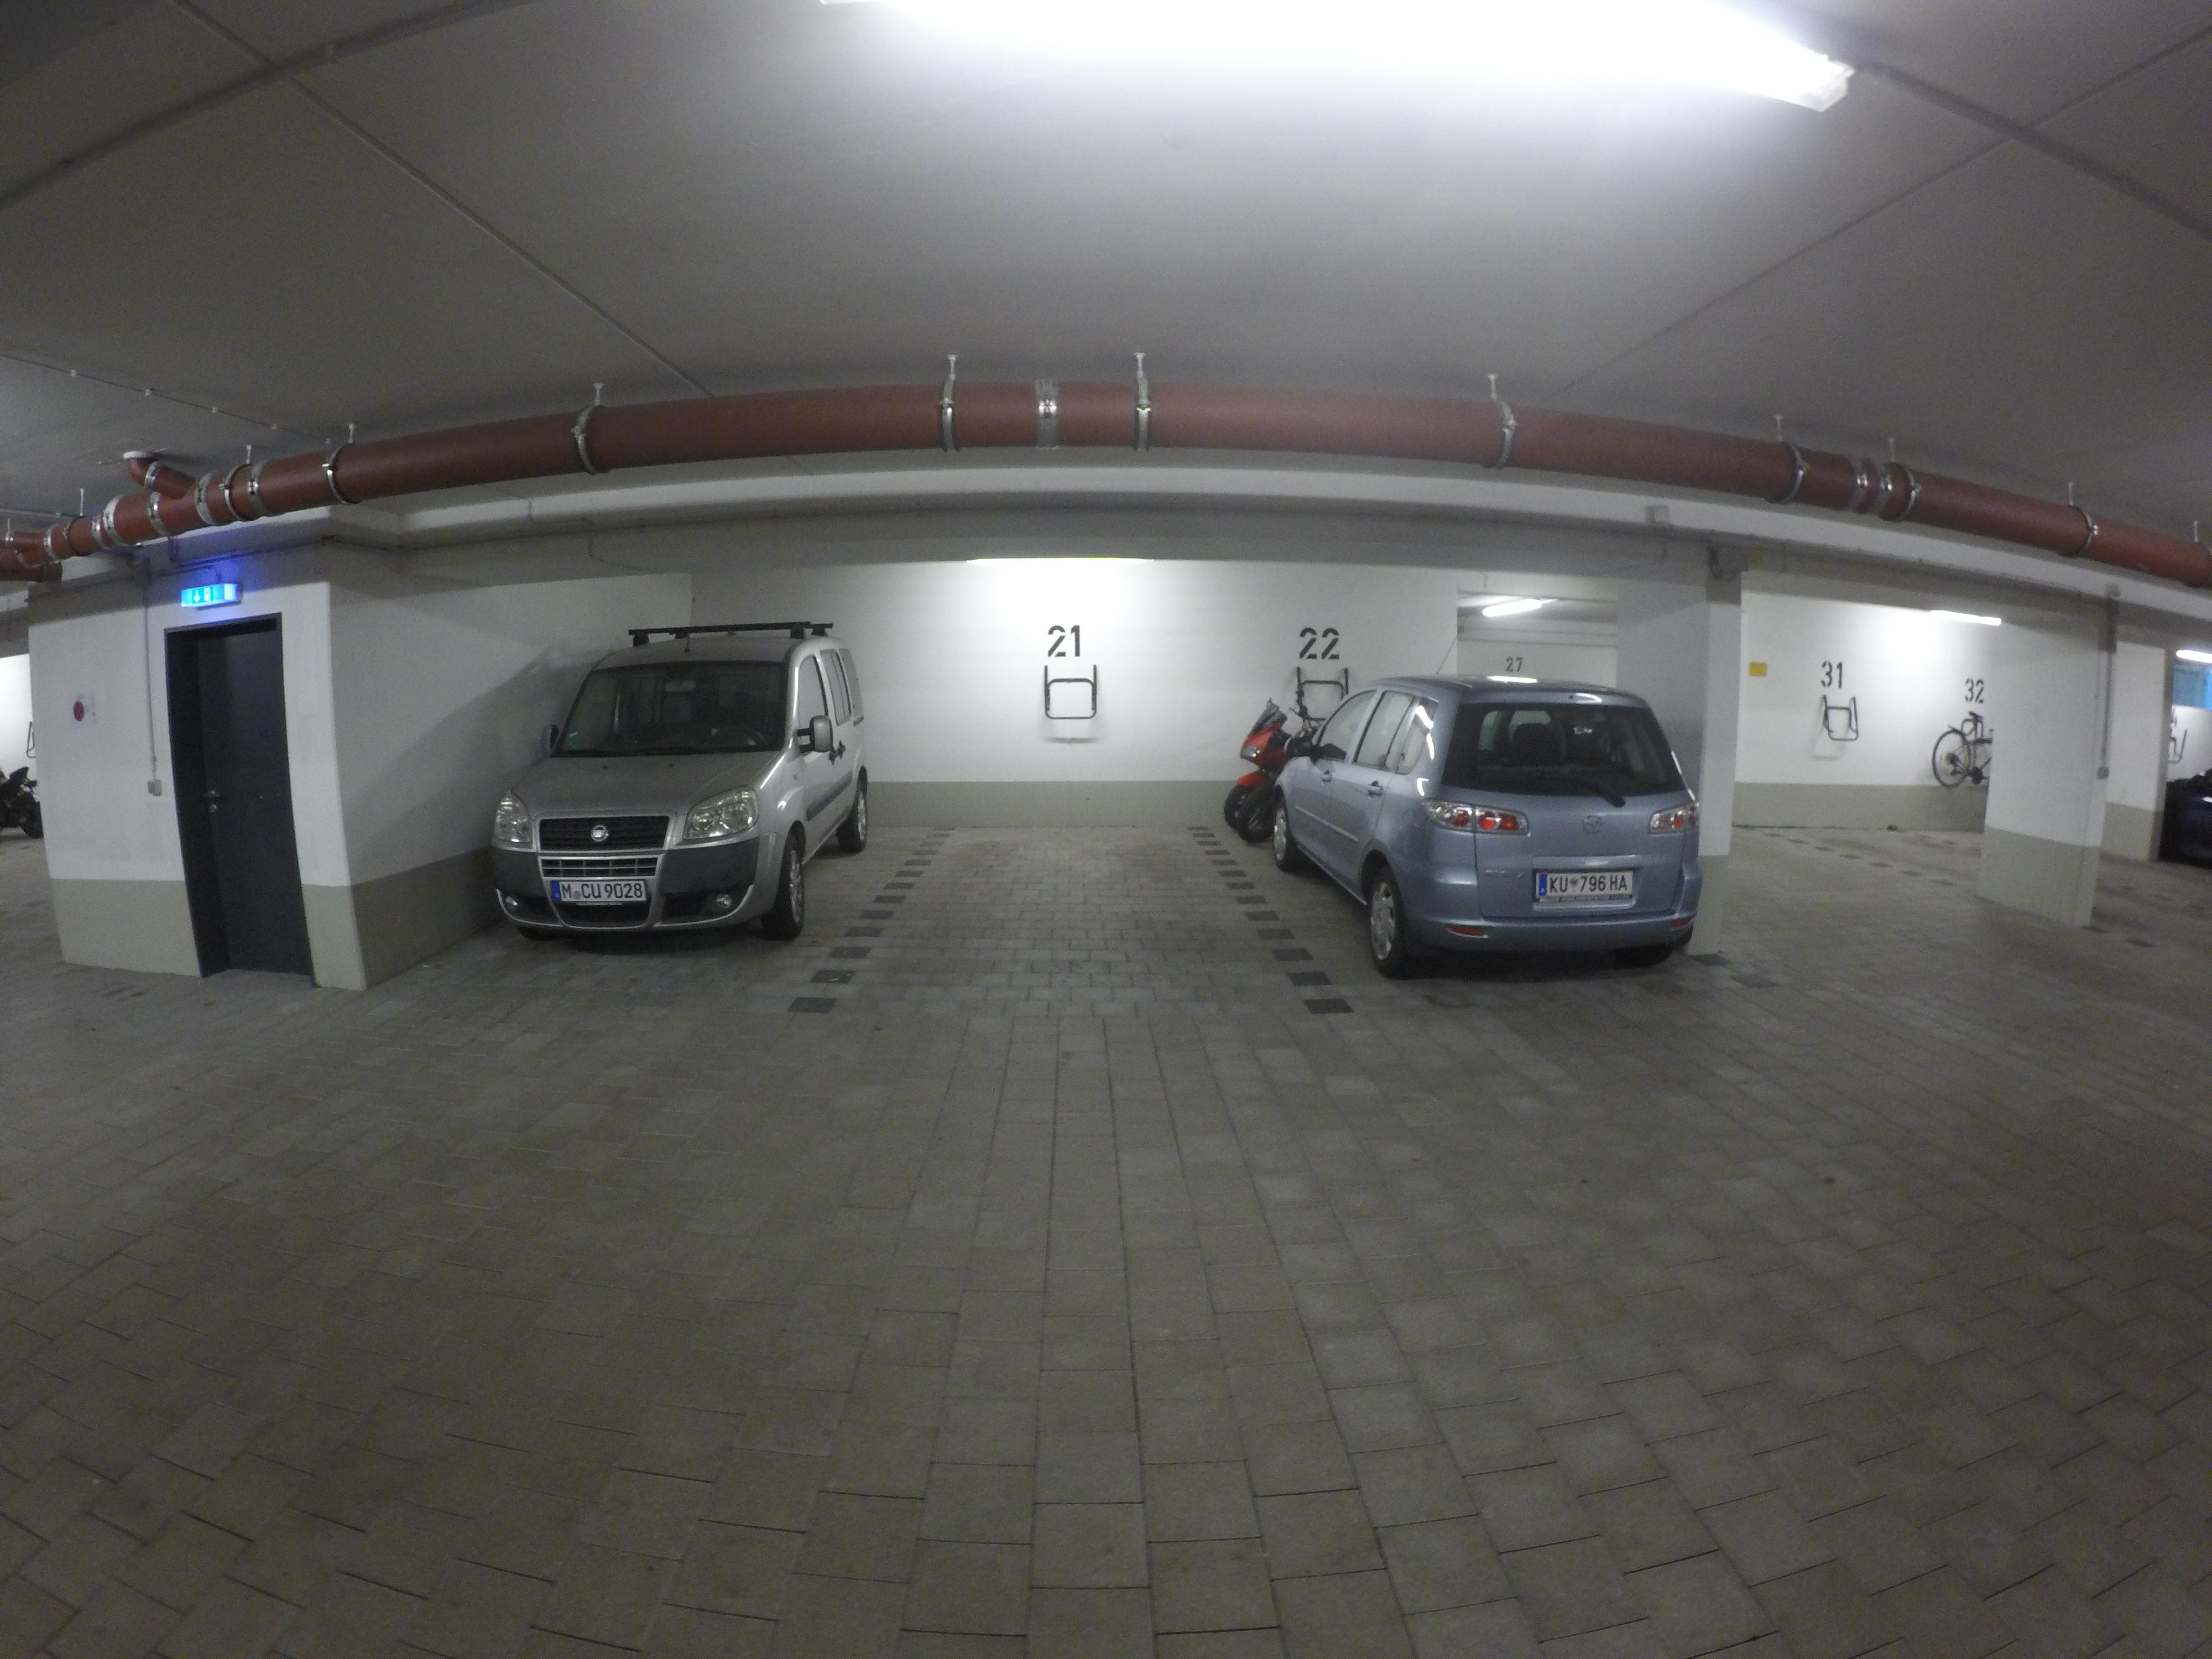0: (613, 883, 624, 898)
2: (623, 883, 633, 899)
6: (1598, 875, 1606, 891)
7: (1579, 875, 1588, 892)
8: (634, 882, 643, 898)
9: (1588, 875, 1597, 892), (604, 883, 613, 899)
A: (1619, 874, 1627, 891)
C: (581, 883, 592, 899)
H: (1609, 874, 1618, 891)
K: (1550, 875, 1558, 893)
M: (561, 883, 572, 899)
U: (591, 883, 602, 899), (1559, 875, 1568, 893)
